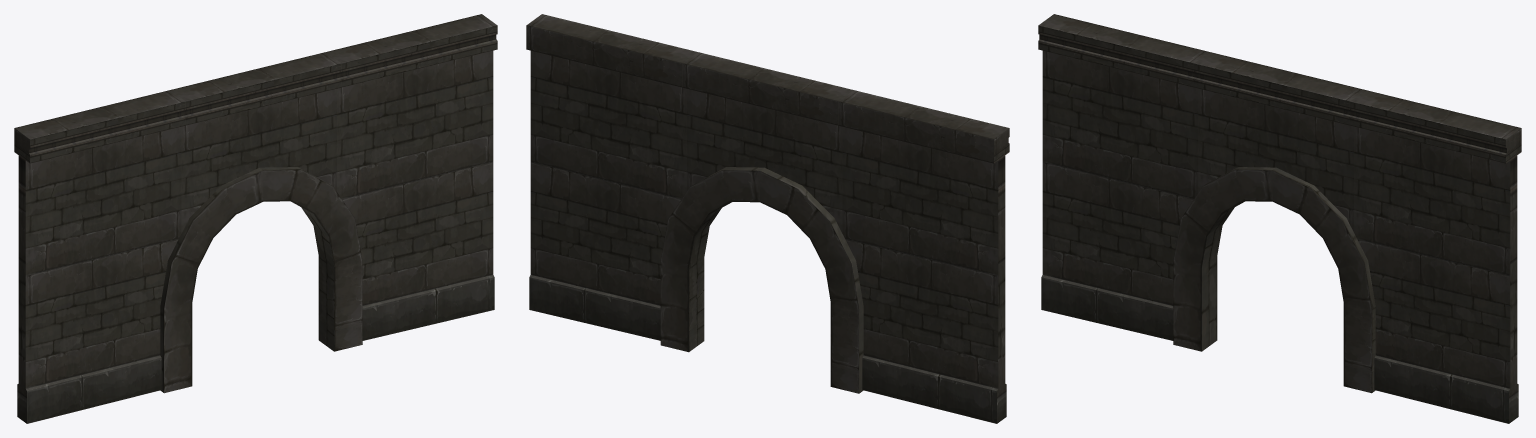
Rendered from sewer_wall009.FBX.
3 views of the same model, side by side, from view 1: azimuth 30°, elevation 25°; view 2: azimuth 150°, elevation 25°; view 3: azimuth 330°, elevation 25° (orthographic).
Parts seen in each view (by area): view 1: sewer_wall009; view 2: sewer_wall009; view 3: sewer_wall009.
Boxes of the visible parts, box(x1,y1,x2,y2) form: sewer_wall009: box(14, 14, 497, 423); sewer_wall009: box(526, 14, 1009, 423); sewer_wall009: box(1038, 14, 1521, 423).
Bounding box in the file's own units: 2002 × 1174 × 118.
